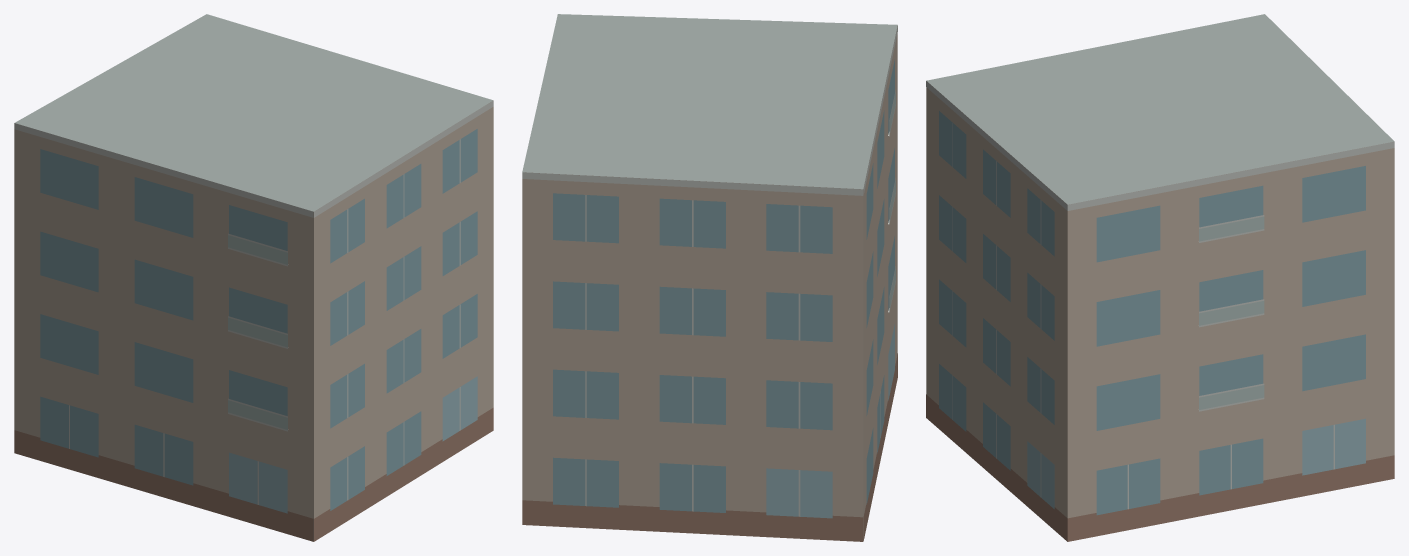
File: survey-upis-32735377.glb
3 views of the same model, side by side, from view 1: azimuth 30°, elevation 25°; view 2: azimuth 150°, elevation 25°; view 3: azimuth 270°, elevation 25° (orthographic). The views are drawn at different scales.
Visible parts, largest first — view 1: survey-upis-32735377.tmp; view 2: survey-upis-32735377.tmp; view 3: survey-upis-32735377.tmp.
Boxes of the visible parts, x1,y1,x2,y2 form: survey-upis-32735377.tmp: (14,14,493,541); survey-upis-32735377.tmp: (522,14,897,541); survey-upis-32735377.tmp: (926,14,1394,541).
Bounding box in the file's own units: 15.66 × 12.9 × 16.26.
